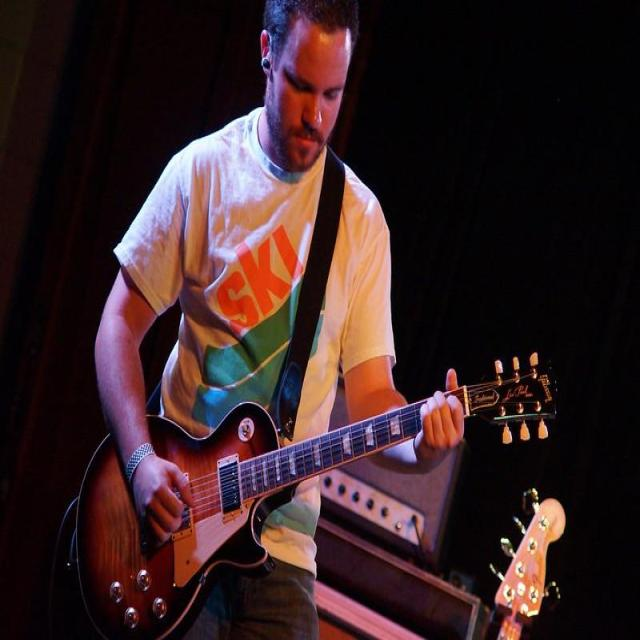guitar: (76, 402, 422, 637)
